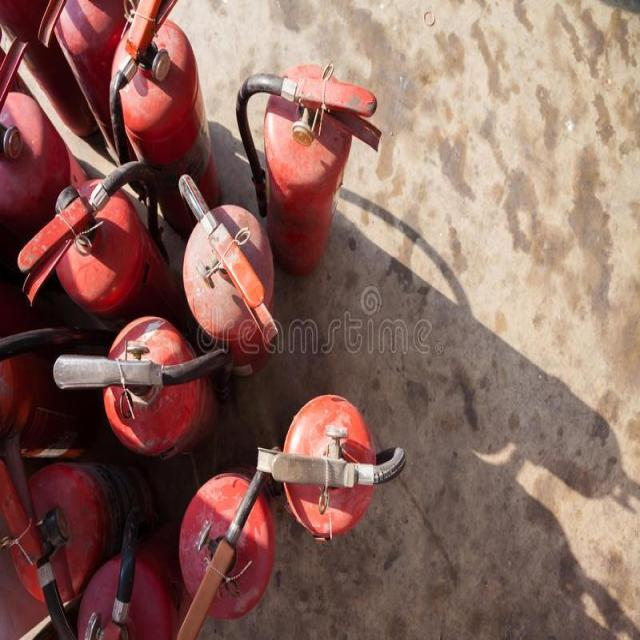fire_extinguisher: (225, 58, 395, 280), (49, 309, 241, 494), (0, 34, 119, 315), (23, 152, 189, 344), (34, 0, 185, 199), (112, 0, 226, 262), (0, 452, 157, 638), (252, 386, 412, 547), (169, 175, 285, 395), (165, 439, 282, 639), (0, 1, 114, 135), (69, 502, 180, 639)
